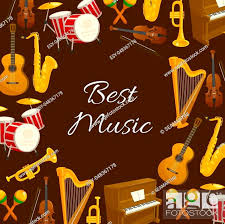Piano: (99, 174, 165, 224)
Saxophone: (17, 22, 63, 95), (204, 112, 225, 216)
Violin: (99, 12, 177, 58), (21, 177, 73, 224), (1, 1, 35, 33)
